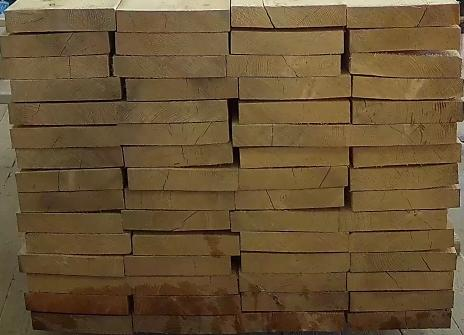Wood-Plank: (347, 0, 461, 28), (351, 50, 463, 78), (239, 74, 352, 100), (351, 164, 459, 191), (350, 26, 462, 52), (231, 29, 345, 54), (233, 123, 350, 147), (10, 77, 122, 102), (0, 32, 111, 57), (232, 4, 347, 28), (123, 143, 233, 168), (116, 9, 228, 33), (239, 100, 350, 124), (3, 8, 114, 32), (10, 102, 120, 126), (353, 100, 463, 124), (239, 166, 349, 190), (115, 32, 229, 55), (353, 76, 462, 100), (354, 144, 462, 168), (128, 167, 236, 191), (353, 188, 461, 212), (126, 78, 238, 101), (117, 122, 228, 145), (17, 168, 123, 192), (10, 125, 120, 148), (113, 56, 226, 78), (120, 100, 228, 123), (350, 123, 458, 146), (231, 209, 339, 232), (132, 233, 239, 256), (0, 56, 110, 78), (236, 188, 345, 210), (127, 275, 239, 296), (25, 293, 127, 316), (342, 210, 448, 232), (240, 312, 346, 334), (227, 56, 342, 76), (16, 148, 122, 169), (25, 233, 131, 254), (352, 251, 458, 272), (134, 295, 240, 316), (16, 213, 121, 234), (240, 148, 350, 168), (242, 254, 351, 274), (351, 231, 454, 252), (122, 211, 230, 231), (125, 256, 232, 276), (18, 192, 124, 212), (348, 272, 454, 292), (18, 256, 123, 276), (31, 314, 131, 335), (125, 191, 235, 210), (351, 292, 455, 312), (348, 310, 452, 330), (241, 233, 349, 252), (240, 274, 347, 293), (242, 293, 349, 312), (26, 276, 127, 296), (133, 316, 236, 334)
